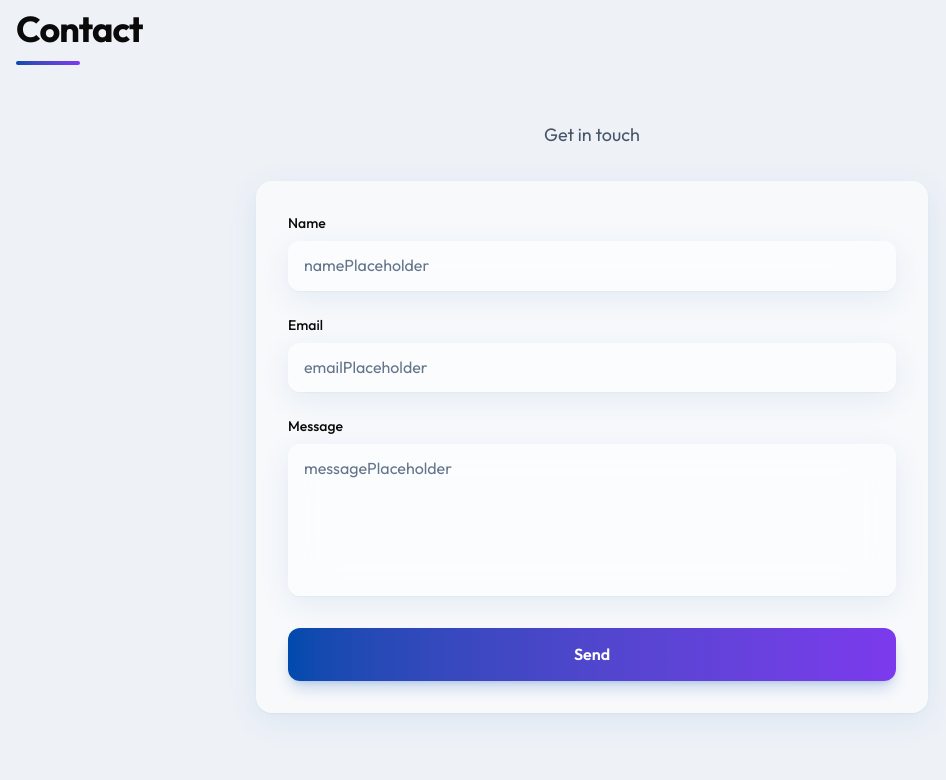
Scenario: Contact › success message displays after successful submit
This screenshot has width=946, height=780.
Note: Fill out form
Step 1. Type "John" into the field labelled "Name" → (592, 266), box left=288, top=241, right=896, bottom=291
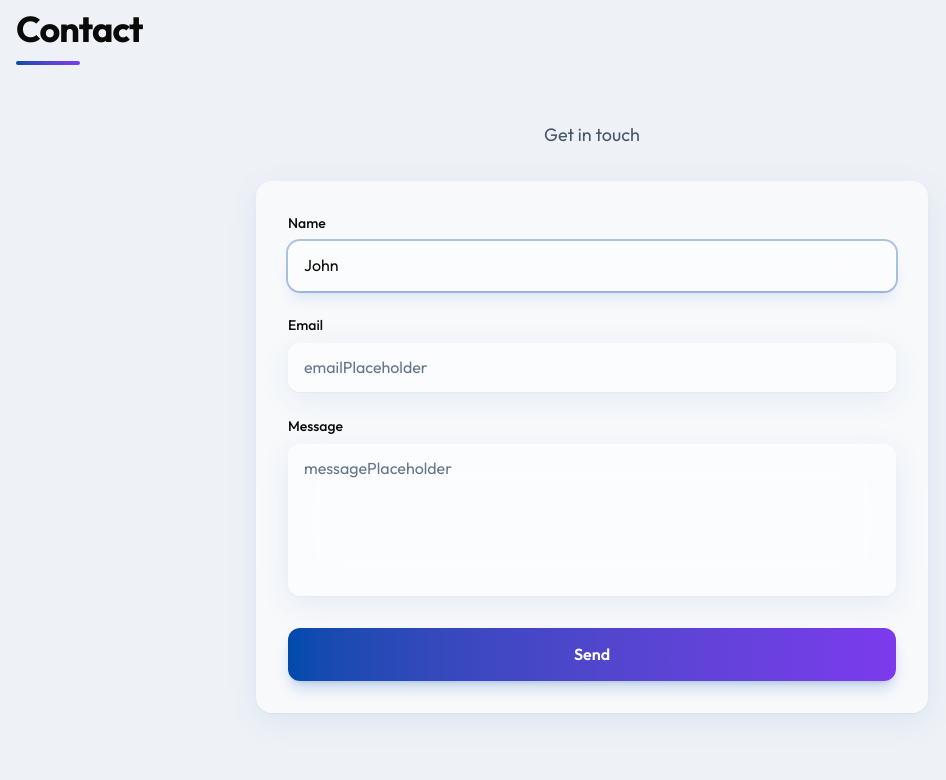
Step 2. Type "john@test.com" into the field labelled "Email" → (592, 367), box left=288, top=343, right=896, bottom=392
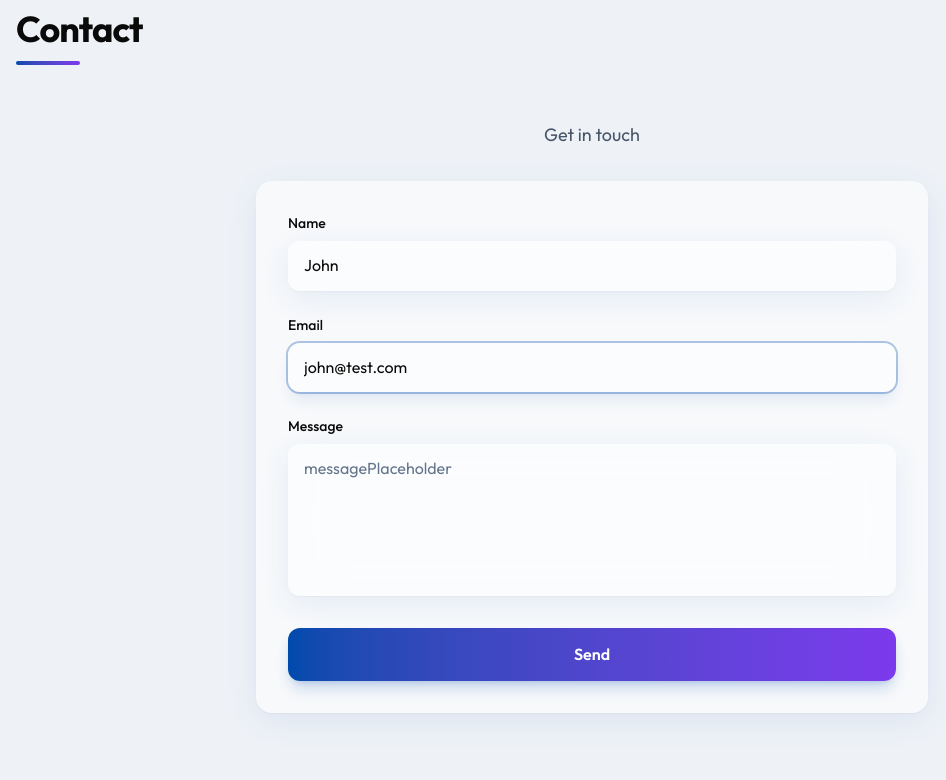
Step 3. Type "Hello" into the text box labelled "Message" → (592, 520), box left=288, top=444, right=896, bottom=596
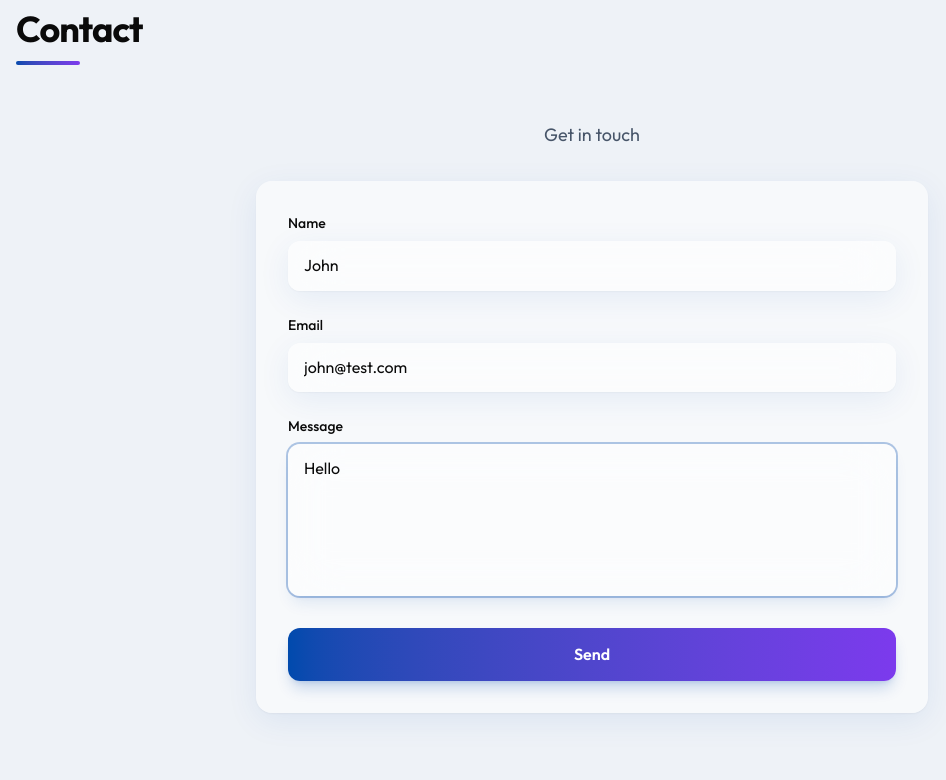
Note: Submit form
Step 4. Submit the form from the button "Send", box left=288, top=628, right=896, bottom=681
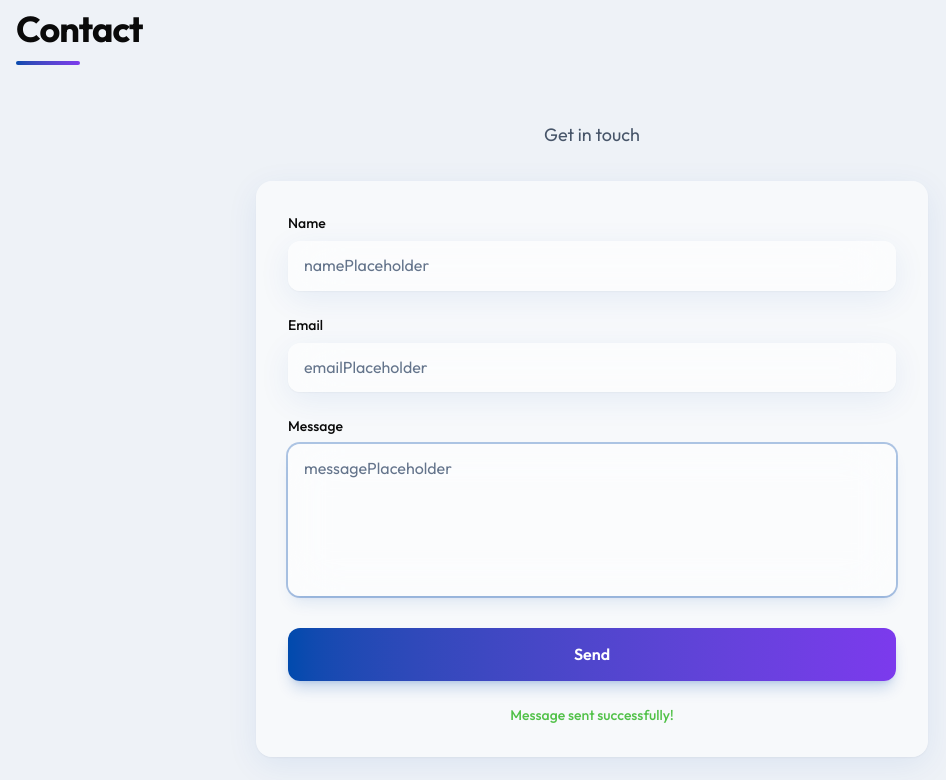
Expected: the text "Message sent successfully!" is shown, left=510, top=706, right=674, bottom=724
